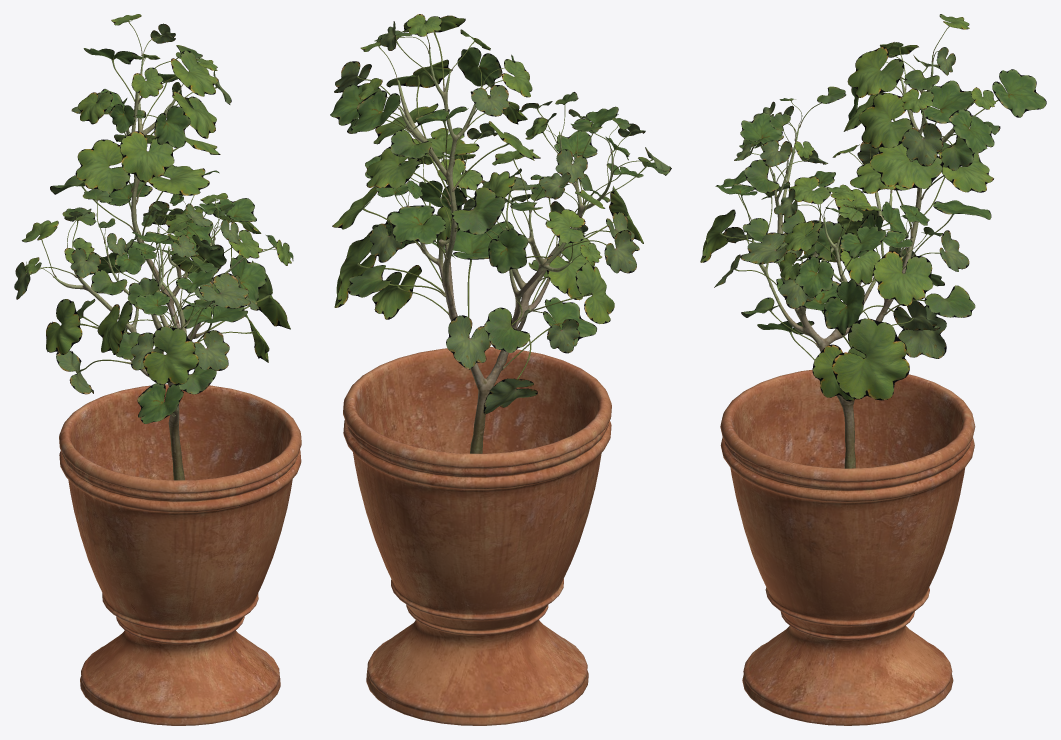
File: potted_plant_01.gltf
3 views of the same model, side by side, from view 1: azimuth 30°, elevation 25°; view 2: azimuth 150°, elevation 25°; view 3: azimuth 270°, elevation 25° (orthographic). The views are drawn at different scales.
Visible parts, largest first — view 1: potted_plant_01_pot, potted_plant_01_leaves, potted_plant_01_stem; view 2: potted_plant_01_pot, potted_plant_01_leaves, potted_plant_01_stem; view 3: potted_plant_01_pot, potted_plant_01_leaves, potted_plant_01_stem.
Boxes of the visible parts, <box> form: potted_plant_01_pot: <box>59,384,301,725</box>; potted_plant_01_leaves: <box>14,14,293,423</box>; potted_plant_01_stem: <box>53,54,244,480</box>; potted_plant_01_pot: <box>343,347,611,725</box>; potted_plant_01_leaves: <box>330,14,671,414</box>; potted_plant_01_stem: <box>397,49,612,453</box>; potted_plant_01_pot: <box>720,369,975,725</box>; potted_plant_01_leaves: <box>700,14,1046,401</box>; potted_plant_01_stem: <box>751,55,966,468</box>.
Size of the model in its own units: 0.5874 by 1.34 by 0.6336.
2 materials, 2 textured.
